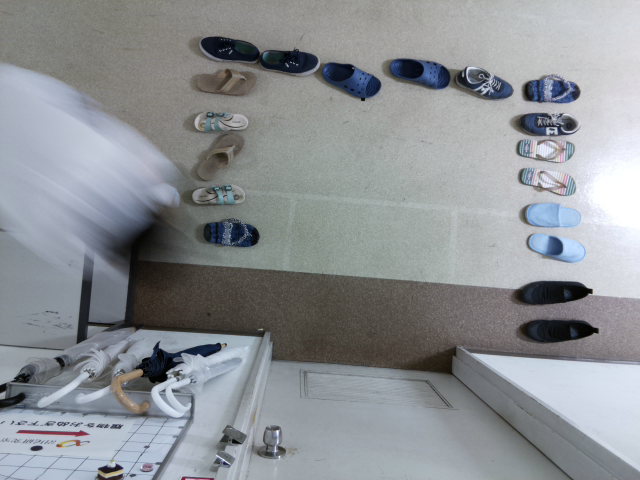Copy of Copy of Copy of Copy of Copy of Copy of Copy of Copy of Copy of Copy of: (508, 274, 599, 310), (511, 314, 602, 349), (514, 64, 585, 108), (506, 102, 588, 140), (505, 131, 587, 169), (506, 162, 588, 200), (509, 194, 591, 232), (513, 228, 595, 266)
Copy of Copy of Copy of Copy of Copy of Copy of Copy of Copy of Copy of shoe: (449, 60, 520, 103)
Copy of Copy of Copy of Copy of Copy of Copy of Copy of Copy of shoe: (382, 51, 453, 94)
Copy of Copy of Copy of Copy of Copy of Copy of Copy of shoe: (317, 58, 384, 102)
Copy of Copy of Copy of Copy of Copy of Copy of shoe: (255, 42, 323, 79)
Copy of Copy of Copy of Copy of Copy of shoe: (194, 28, 262, 66)
Copy of Copy of Copy of Copy of Copy of umbrella: (1, 319, 142, 411)
Copy of Copy of Copy of Copy of shoe: (187, 104, 255, 133)
Copy of Copy of Copy of Copy of umbrella: (31, 324, 143, 413)
Copy of Copy of Copy of shoe: (187, 66, 260, 98)
Copy of Copy of Copy of umbrella: (70, 324, 166, 413)
Copy of Copy of shoe: (185, 129, 251, 186)
Copy of Copy of umbrella: (101, 337, 231, 418)
Copy of shoe: (185, 178, 253, 212)
Copy of umbrella: (160, 349, 258, 422)
niceguy: (1, 64, 206, 289)
shoe: (195, 216, 269, 249)
umbrella: (143, 337, 257, 417)
